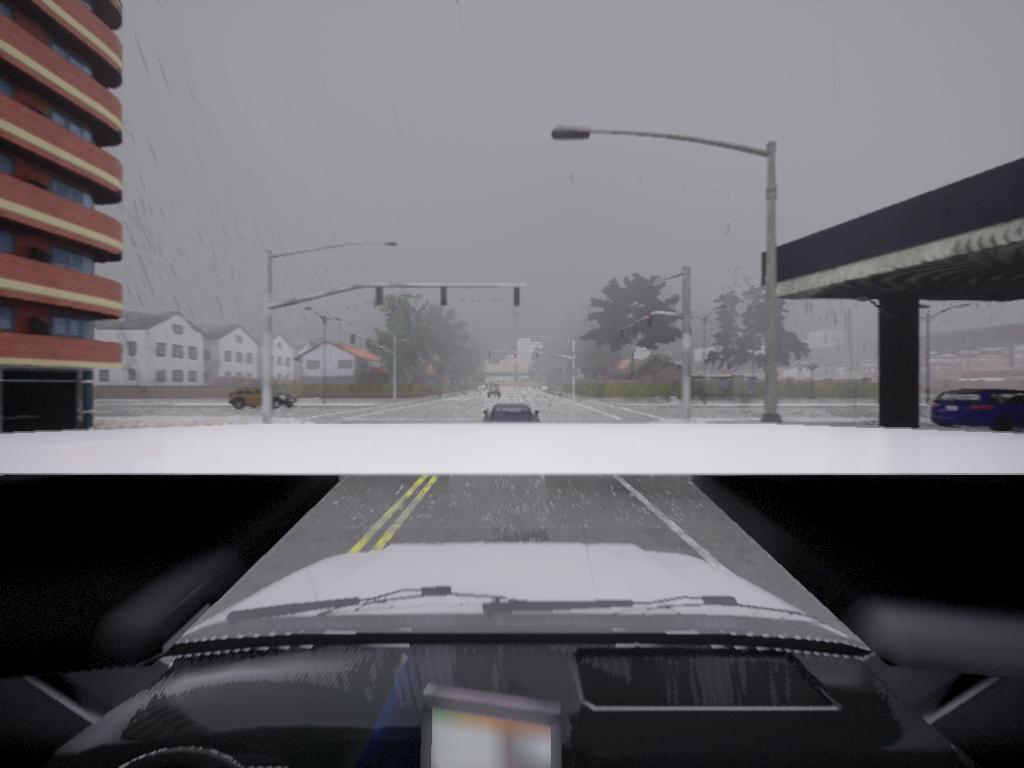traffic_light: (512, 287, 522, 308), (375, 286, 385, 306), (440, 288, 448, 307), (535, 349, 544, 360), (648, 316, 654, 330), (633, 324, 638, 336), (620, 330, 625, 341), (514, 351, 518, 363), (488, 349, 492, 361)
